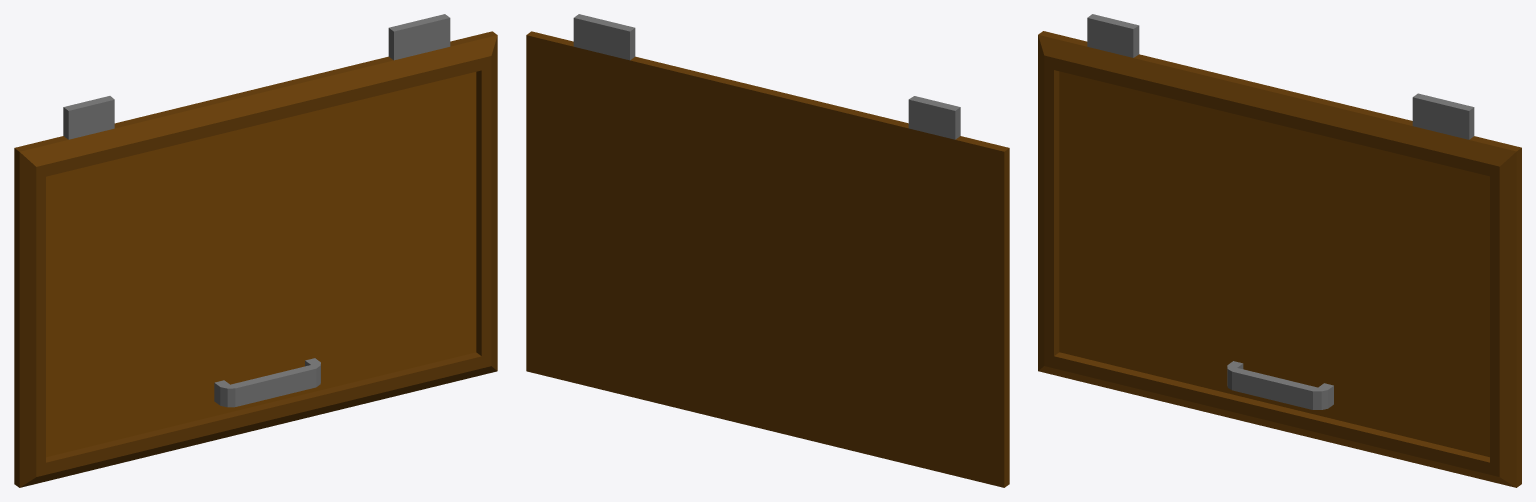
File: High_Cupboard_2_Door.fbx
3 renders of one model, left to right at view 1: azimuth 30°, elevation 25°; view 2: azimuth 150°, elevation 25°; view 3: azimuth 330°, elevation 25°, orthographic.
Visible parts, largest first — view 1: Cube.187; view 2: Cube.187; view 3: Cube.187.
Part boxes in pixels (left/top/right/bottom): Cube.187: left=14, top=14, right=497, bottom=487; Cube.187: left=526, top=14, right=1009, bottom=487; Cube.187: left=1038, top=14, right=1521, bottom=487.
Size of the model in its own units: 96.73 by 70.58 by 5.72.
